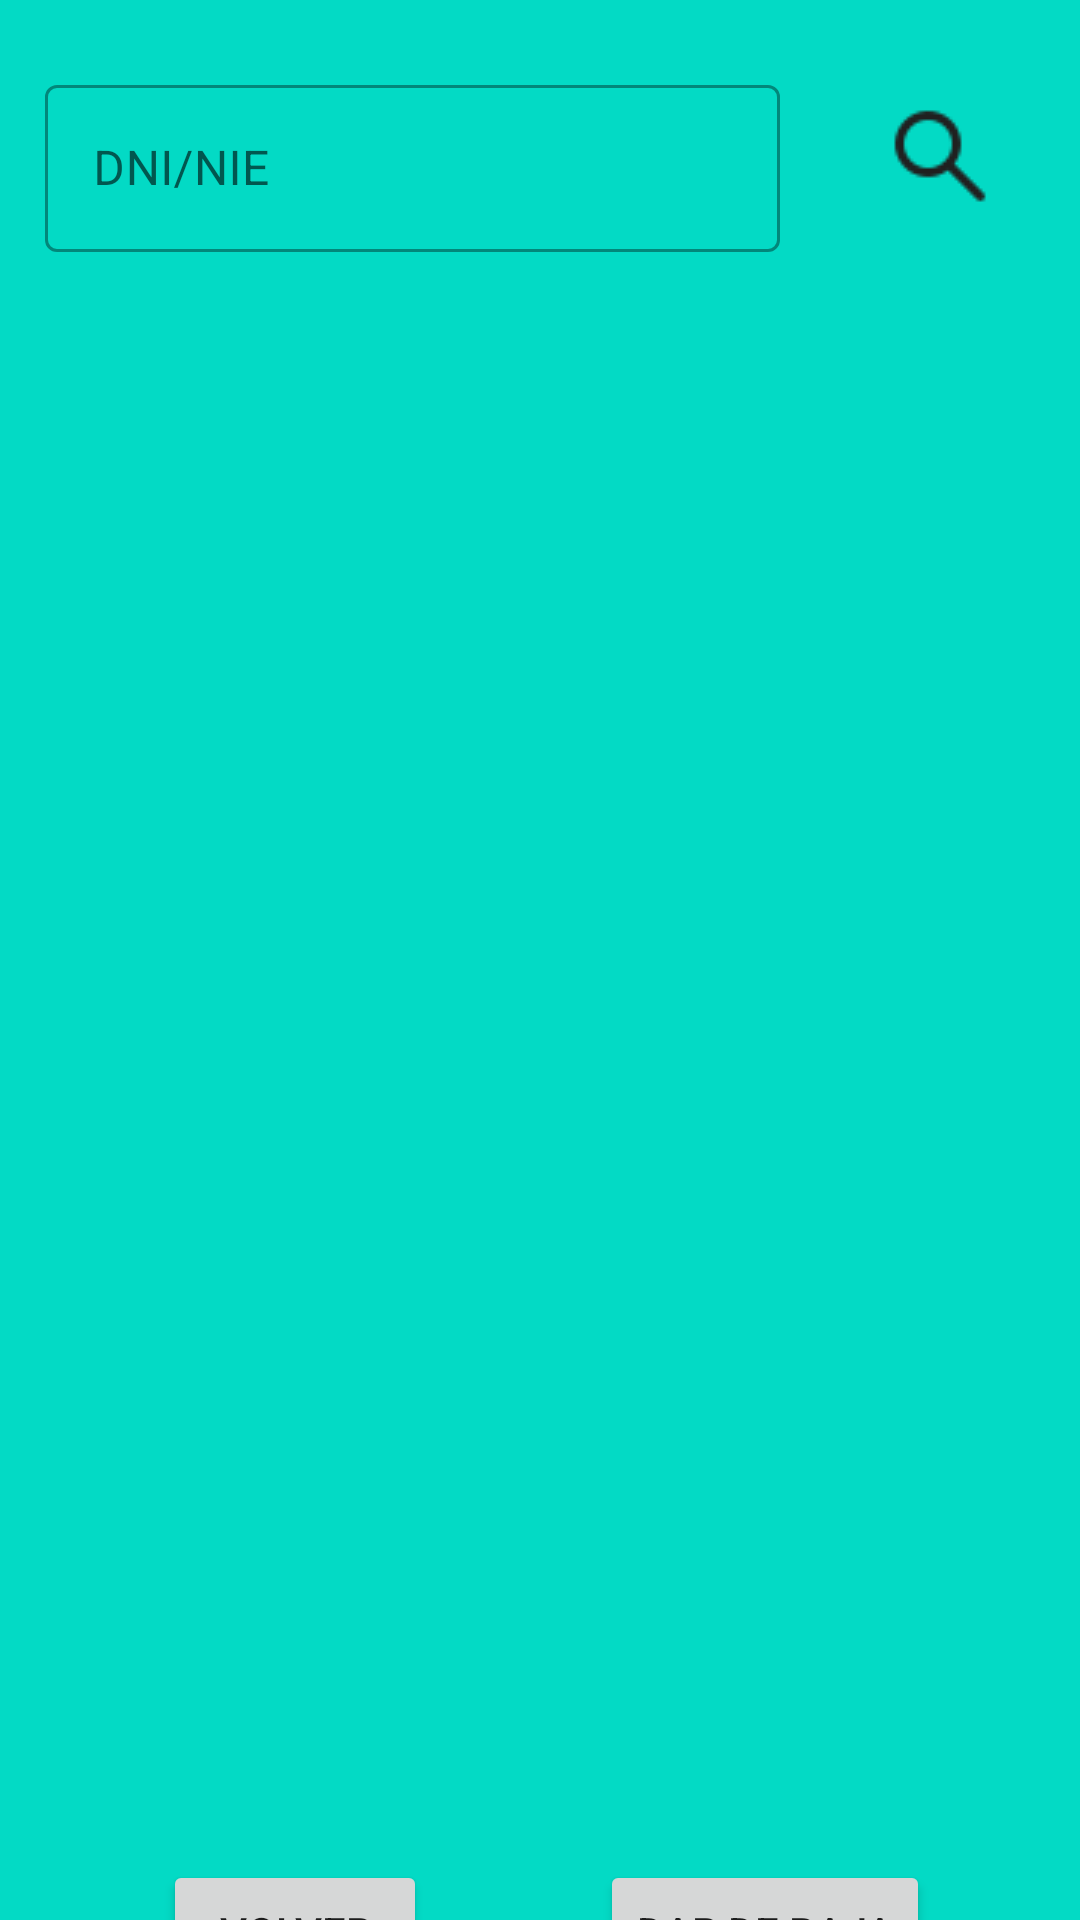

Named icons in this screenshot (1080px x 1920px) and their bounding boxes, (x1, y1, x2, y2):
buscar: (894, 110, 986, 202)
